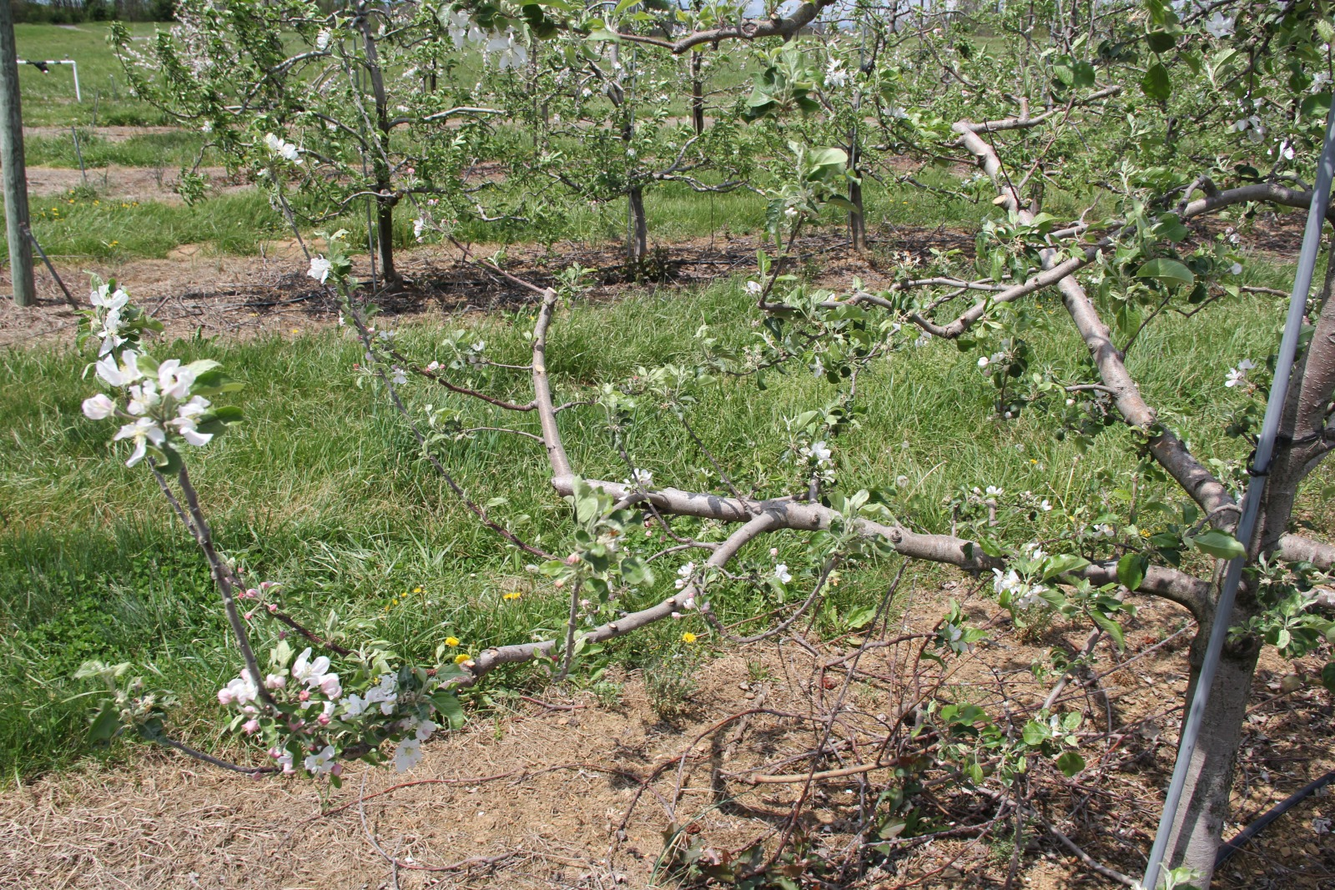flower: (128, 360, 197, 415), (91, 284, 131, 357), (340, 673, 399, 721), (292, 647, 344, 701), (115, 418, 165, 468), (486, 25, 535, 75), (390, 721, 437, 773), (173, 395, 214, 446), (95, 349, 144, 387), (448, 9, 488, 49), (218, 669, 258, 706), (266, 133, 304, 165), (1233, 112, 1267, 145), (824, 58, 859, 88), (83, 394, 118, 423), (1225, 359, 1257, 388), (1204, 12, 1237, 40), (304, 746, 335, 774), (993, 569, 1022, 596), (308, 254, 334, 284), (805, 441, 834, 467), (949, 620, 969, 654), (675, 562, 696, 590), (278, 748, 297, 774), (1016, 591, 1040, 611), (390, 365, 408, 385), (776, 565, 793, 585), (413, 216, 427, 238), (317, 28, 330, 48), (324, 701, 336, 717), (1034, 546, 1048, 559), (400, 718, 412, 732), (640, 470, 652, 481)
